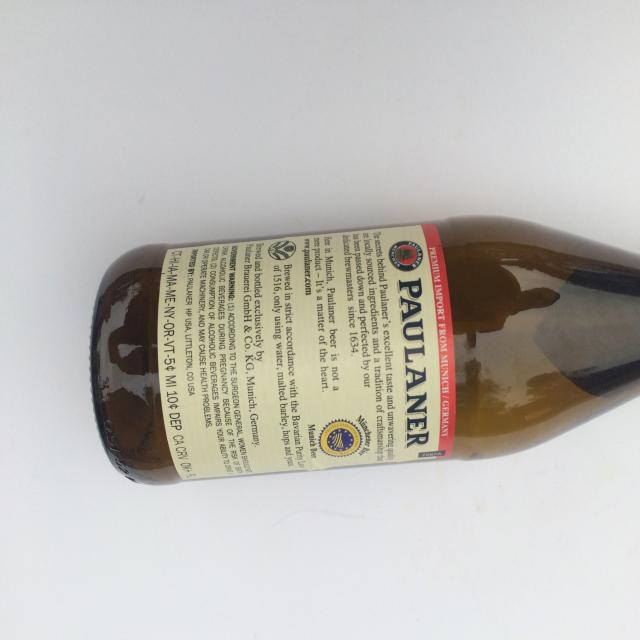glass: (89, 214, 640, 486)
